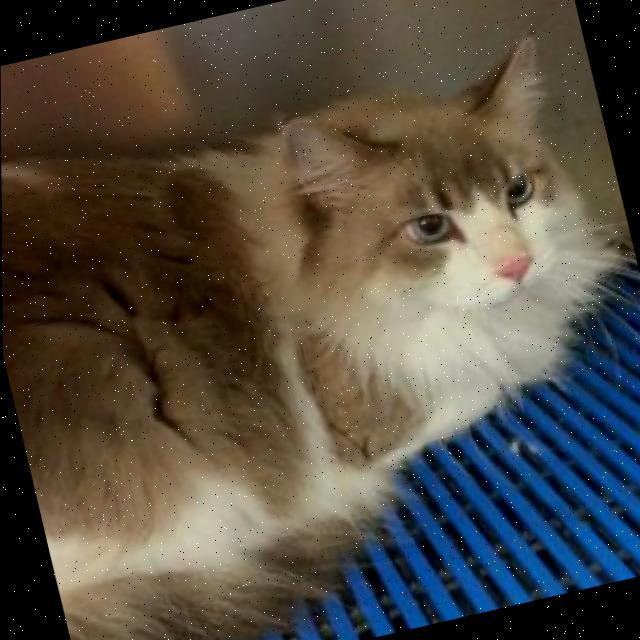Ragdoll: (0, 6, 640, 640)
